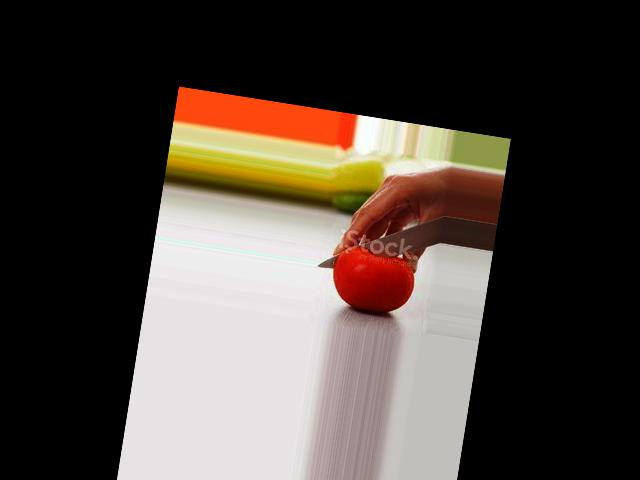tomato: (328, 243, 419, 319)
